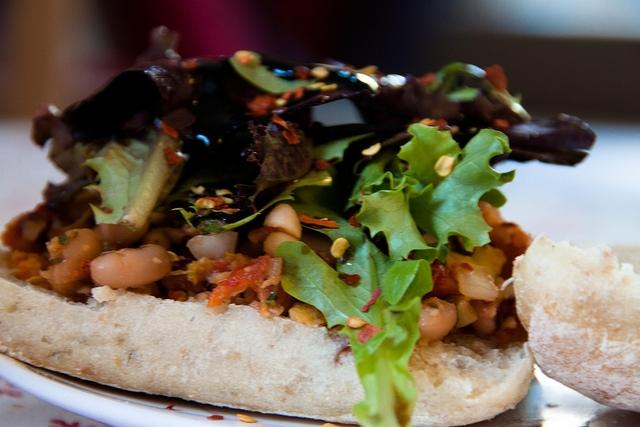lettuce: (275, 241, 433, 426), (393, 123, 516, 266), (355, 182, 440, 264), (301, 223, 396, 291), (81, 140, 152, 224), (490, 113, 598, 168)
onion: (446, 253, 498, 302), (418, 298, 458, 346), (186, 231, 238, 260), (289, 302, 326, 327)
